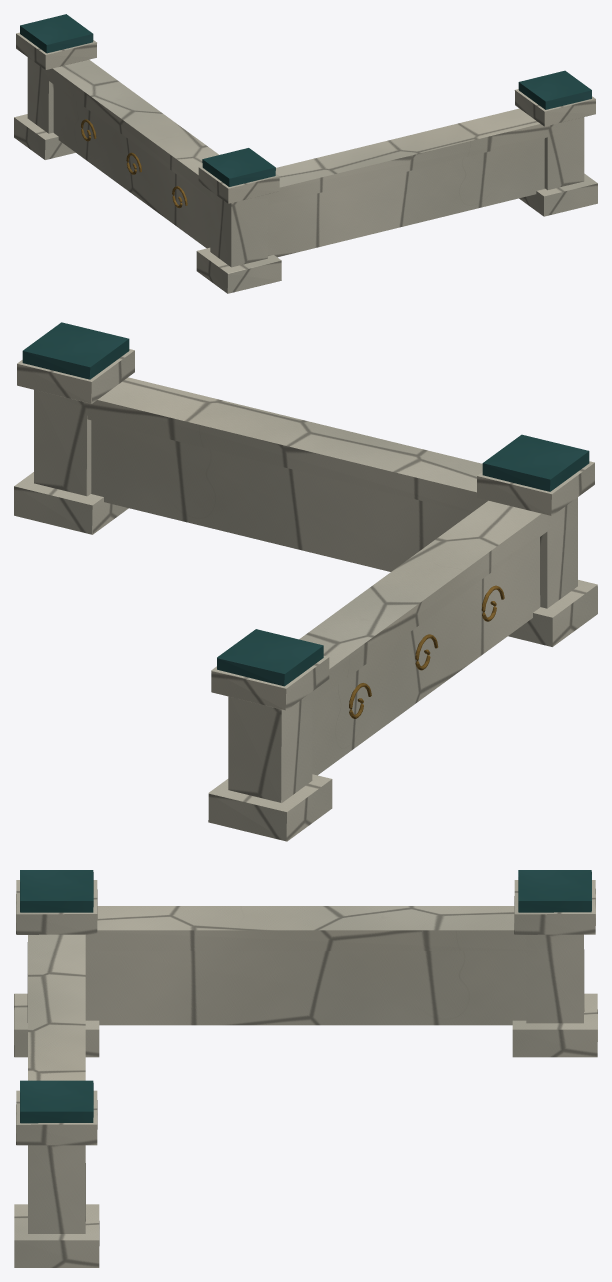
Rendered from t06_rail_corner_lod1.fbx.
The picture shows the model from 3 angles, top to bottom: view 1: azimuth 30°, elevation 25°; view 2: azimuth 150°, elevation 25°; view 3: azimuth 270°, elevation 25°; orthographic projection. The views are drawn at different scales.
Visible parts, largest first — view 1: t06_rail_corner.005; view 2: t06_rail_corner.005; view 3: t06_rail_corner.005.
Boxes of the visible parts, left/top/right/bottom form: t06_rail_corner.005: left=14, top=14, right=597, bottom=293; t06_rail_corner.005: left=14, top=322, right=597, bottom=841; t06_rail_corner.005: left=14, top=870, right=597, bottom=1267.
Size of the model in its own units: 30000 by 29972 by 8731.
